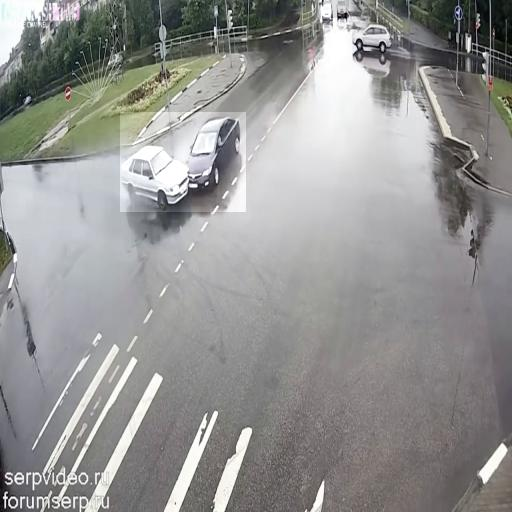小汽车: (352, 23, 390, 55), (331, 0, 349, 18), (321, 5, 335, 22)
小汽车撞小汽车: (120, 112, 246, 212)
